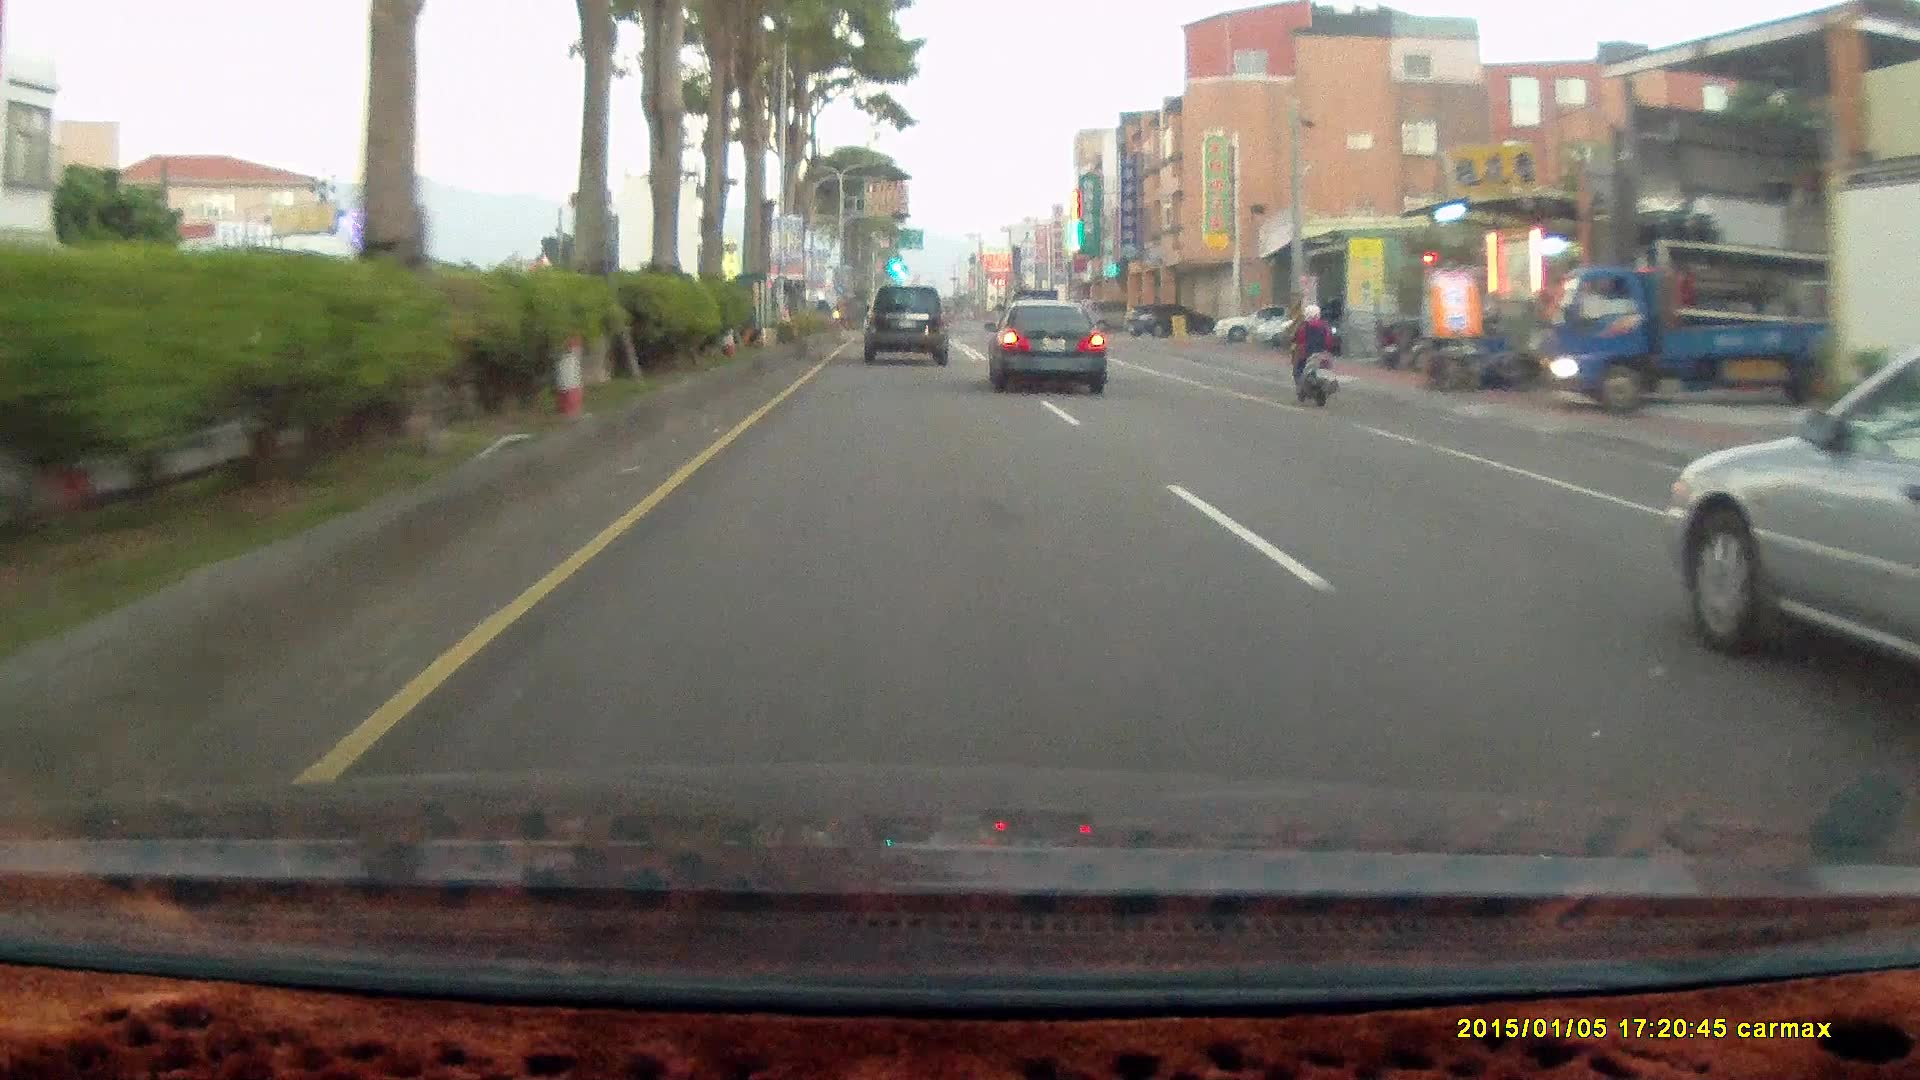rider: (1275, 289, 1353, 416), (1280, 300, 1339, 403)
vehicle: (1663, 350, 1920, 692), (1670, 349, 1920, 695), (1534, 235, 1846, 416), (1532, 265, 1875, 416), (990, 297, 1113, 395), (983, 299, 1108, 394), (869, 283, 953, 368), (862, 282, 949, 364), (1303, 297, 1413, 353), (1214, 302, 1319, 343), (1123, 303, 1215, 338), (1080, 296, 1146, 332)
